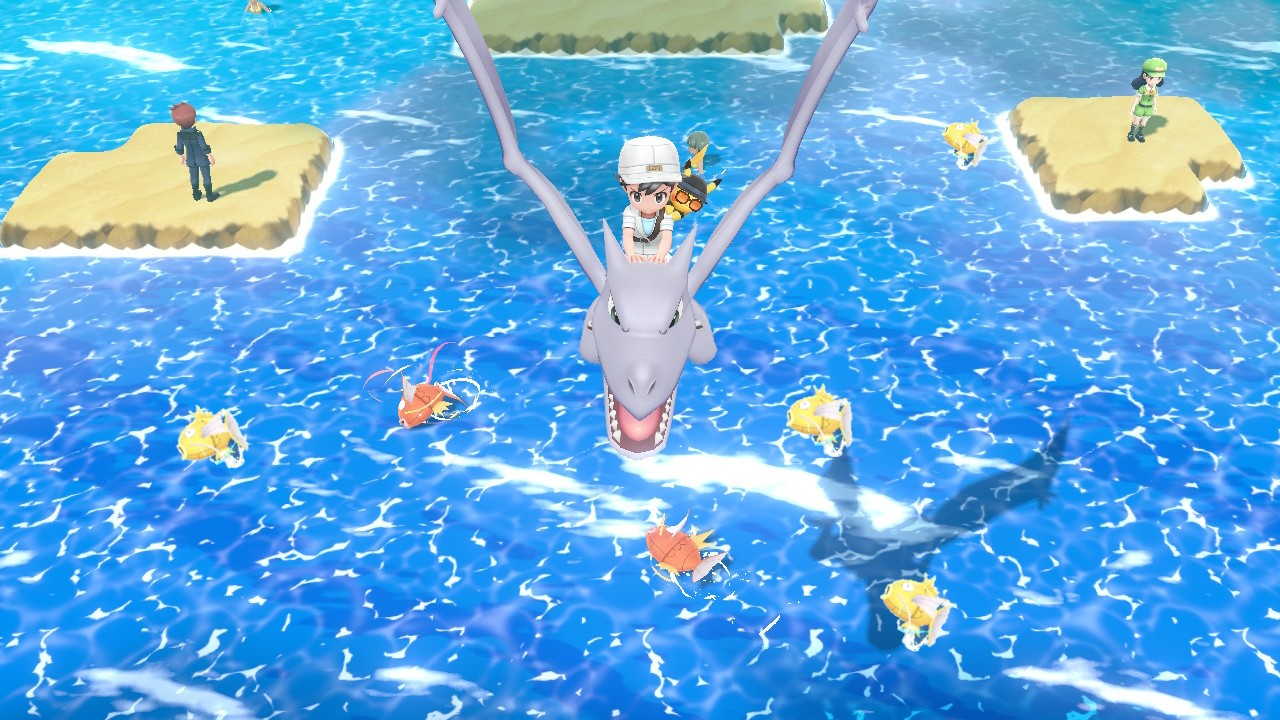Golden: (876, 573, 953, 648), (174, 404, 248, 467), (785, 384, 856, 445), (938, 115, 988, 164)
